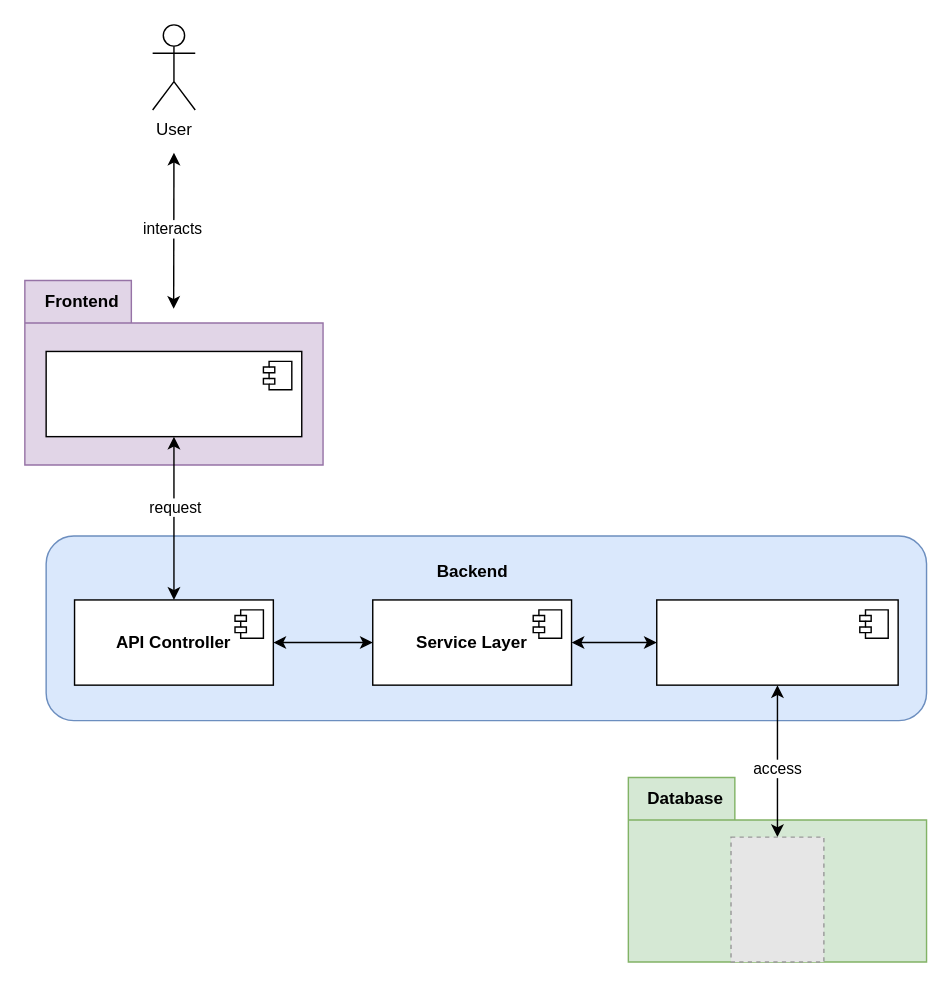
The diagram is 951 pixels wide and 987 high, and some of its shapes have lost their labels. Grey dashed boxes stand in for pictures. The shapes that lost their labels are listed below. From the top down, each one's centre as x and y in pixels, then its label:
At pixel 173 393: "TempoTalk Website".
At pixel 776 642: "Data Access Layer".
